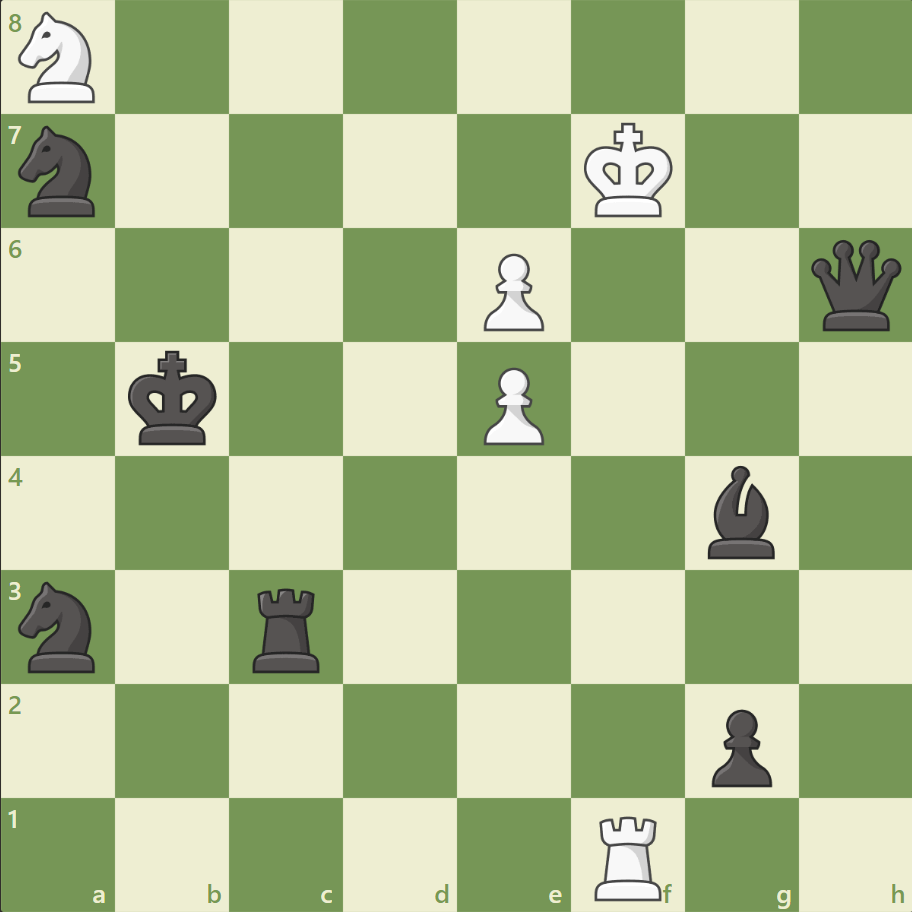K: (579, 117, 679, 225)
N: (11, 7, 108, 110)
P: (474, 246, 549, 337), (474, 359, 549, 450)
R: (587, 806, 670, 904)
b: (698, 460, 782, 563)
k: (124, 344, 224, 452)
n: (11, 121, 108, 223), (11, 575, 108, 677)
p: (701, 700, 776, 791)
q: (805, 236, 904, 335)
r: (246, 579, 329, 676)
